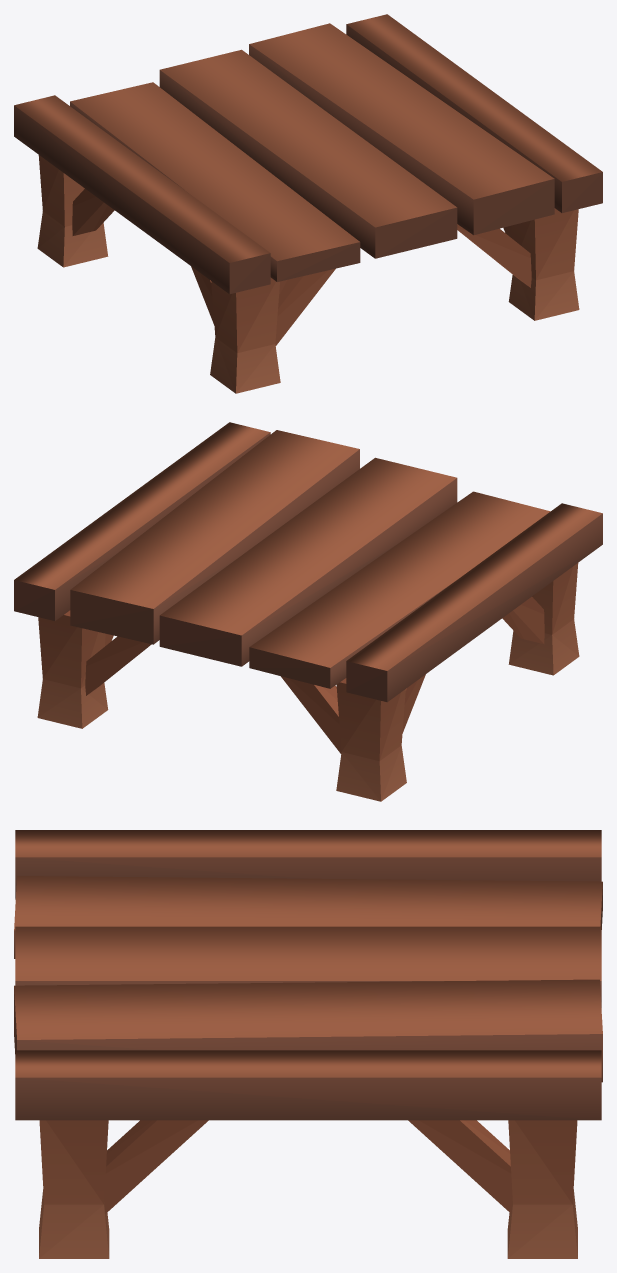
The model's file is pirate_structure_platform.glb.
3 renders of one model, top to bottom at view 1: azimuth 30°, elevation 25°; view 2: azimuth 150°, elevation 25°; view 3: azimuth 270°, elevation 25°, orthographic. The views are drawn at different scales.
Visible parts, largest first — view 1: pirate_structure_platform; view 2: pirate_structure_platform; view 3: pirate_structure_platform.
Part boxes in pixels (left/top/right/bottom): pirate_structure_platform: left=14, top=14, right=602, bottom=393; pirate_structure_platform: left=14, top=422, right=602, bottom=801; pirate_structure_platform: left=14, top=830, right=602, bottom=1258.
Bounding box in the file's own units: 2.5 × 0.928 × 2.51.
